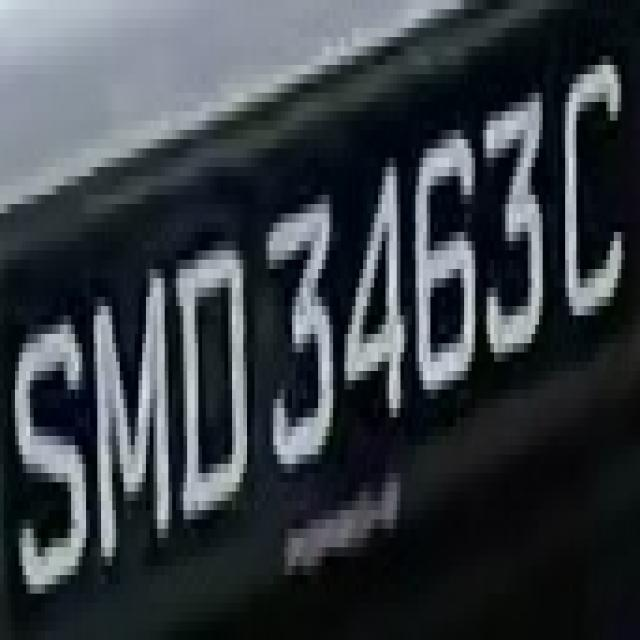3: (254, 176, 340, 501), (472, 93, 546, 380)
4: (340, 148, 416, 436)
6: (400, 111, 483, 436)
C: (554, 55, 625, 352)
D: (180, 204, 254, 529)
M: (82, 260, 176, 584)
S: (11, 278, 90, 603)
